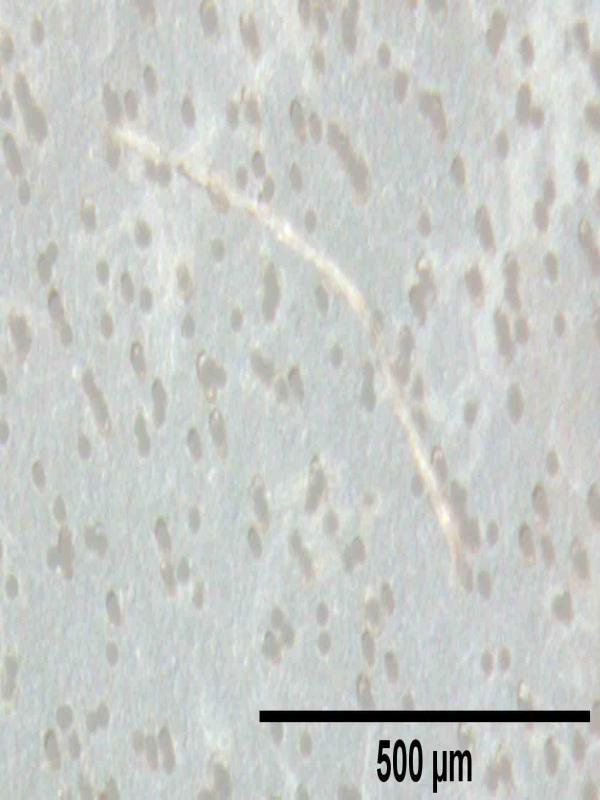microplastic: (1, 1, 598, 795)
